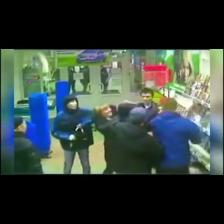person: (150, 98, 201, 174), (112, 108, 163, 173), (52, 94, 93, 174), (14, 117, 43, 174), (94, 105, 116, 174)
